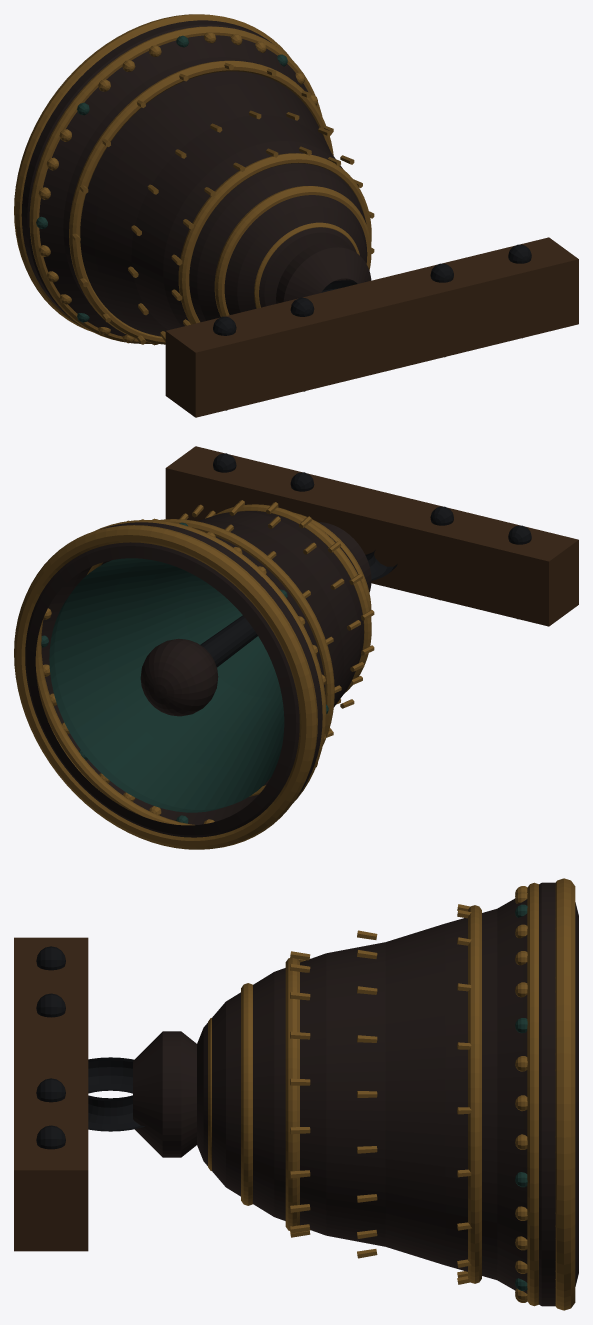
File: SM_BlackBell_1348.obj
3 views of the same model, one above another, from view 1: azimuth 30°, elevation 25°; view 2: azimuth 150°, elevation 25°; view 3: azimuth 270°, elevation 25° (orthographic). The views are drawn at different scales.
Parts seen in each view (by area): view 1: Bell_MainShell, Bell_Yoke, Bell_Mouldings, Bell_Crown, Bell_Studs, Bell_CastSigils, Bell_YokeBolts; view 2: Bell_Interior, Bell_Yoke, Bell_MainShell, Bell_Mouldings, Bell_Clapper, Bell_CastSigils, Bell_YokeBolts, Bell_Tongue, Bell_Studs, Bell_Crown; view 3: Bell_MainShell, Bell_Mouldings, Bell_Yoke, Bell_Crown, Bell_CastSigils, Bell_Hanger, Bell_Studs, Bell_YokeBolts.
Part boxes in pixels (x1=…): Bell_MainShell: x1=21, y1=20, x2=367, y2=338; Bell_Yoke: x1=165, y1=237, x2=578, y2=417; Bell_Mouldings: x1=14, y1=14, x2=371, y2=344; Bell_Crown: x1=276, y1=242, x2=371, y2=303; Bell_Studs: x1=36, y1=32, x2=317, y2=345; Bell_CastSigils: x1=72, y1=62, x2=374, y2=344; Bell_YokeBolts: x1=213, y1=244, x2=531, y2=410; Bell_Interior: x1=49, y1=558, x2=284, y2=812; Bell_Yoke: x1=165, y1=446, x2=578, y2=626; Bell_MainShell: x1=25, y1=511, x2=363, y2=837; Bell_Mouldings: x1=14, y1=504, x2=371, y2=849; Bell_Clapper: x1=140, y1=638, x2=218, y2=716; Bell_CastSigils: x1=141, y1=500, x2=374, y2=737; Bell_YokeBolts: x1=213, y1=453, x2=531, y2=619; Bell_Tongue: x1=200, y1=615, x2=257, y2=667; Bell_Studs: x1=41, y1=518, x2=328, y2=823; Bell_Crown: x1=318, y1=522, x2=371, y2=592; Bell_MainShell: x1=197, y1=882, x2=578, y2=1306; Bell_Mouldings: x1=208, y1=878, x2=575, y2=1310; Bell_Yoke: x1=14, y1=937, x2=88, y2=1251; Bell_Crown: x1=133, y1=1031, x2=196, y2=1157; Bell_CastSigils: x1=290, y1=904, x2=471, y2=1284; Bell_Hanger: x1=88, y1=1057, x2=144, y2=1131; Bell_Studs: x1=515, y1=886, x2=527, y2=1302; Bell_YokeBolts: x1=36, y1=946, x2=65, y2=1149.
Size of the model in its own units: 148 by 116 by 152.
